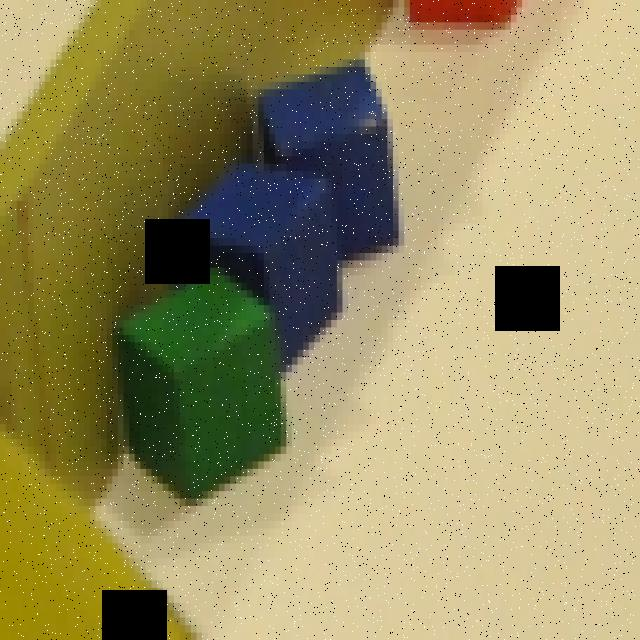bluecube: (169, 158, 342, 374), (253, 58, 401, 261)
green cube: (117, 265, 289, 499)
